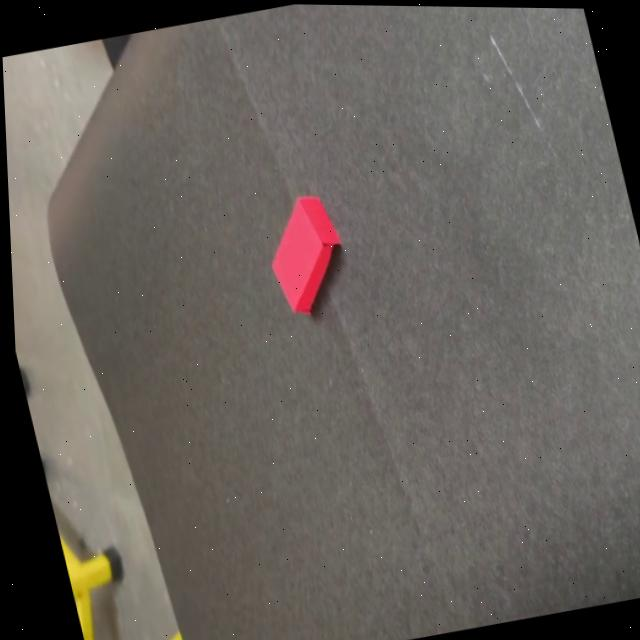red block: (256, 190, 357, 322)
